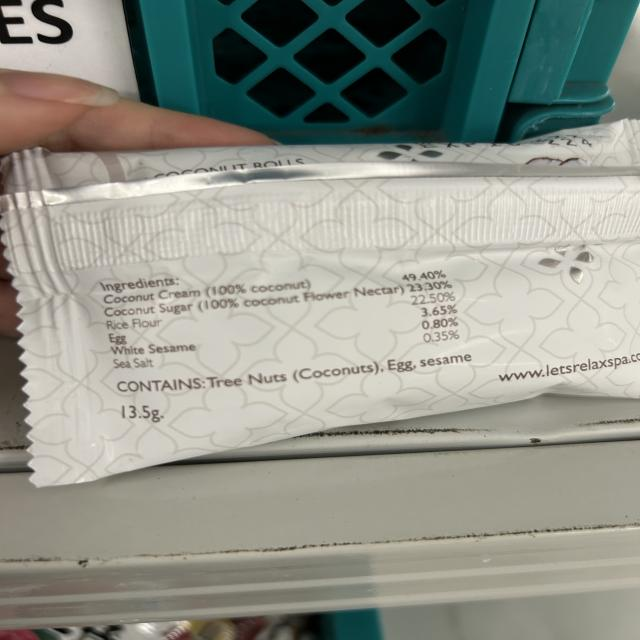object_name: (15, 175, 640, 413)
